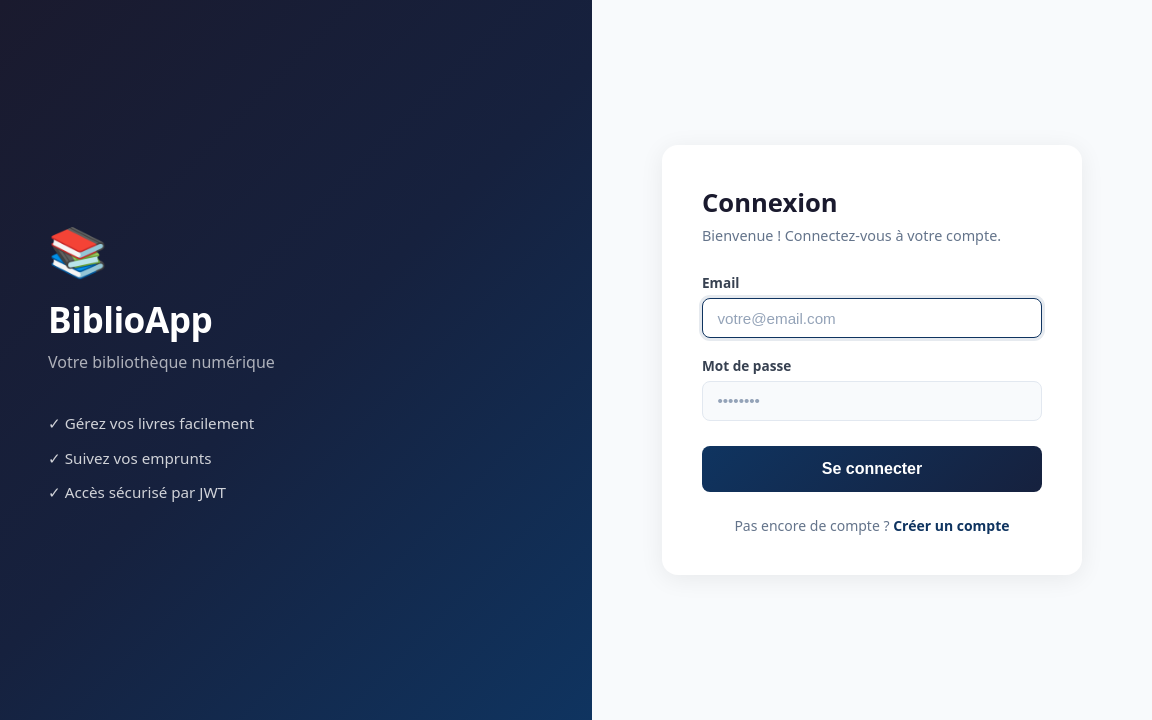
Test case: Functional — Auth flow › wrong credentials shows error message
This screenshot has width=1152, height=720.
In the field labelled "Email": (872, 318) [702, 298, 1042, 338], type "wrong@test.com"
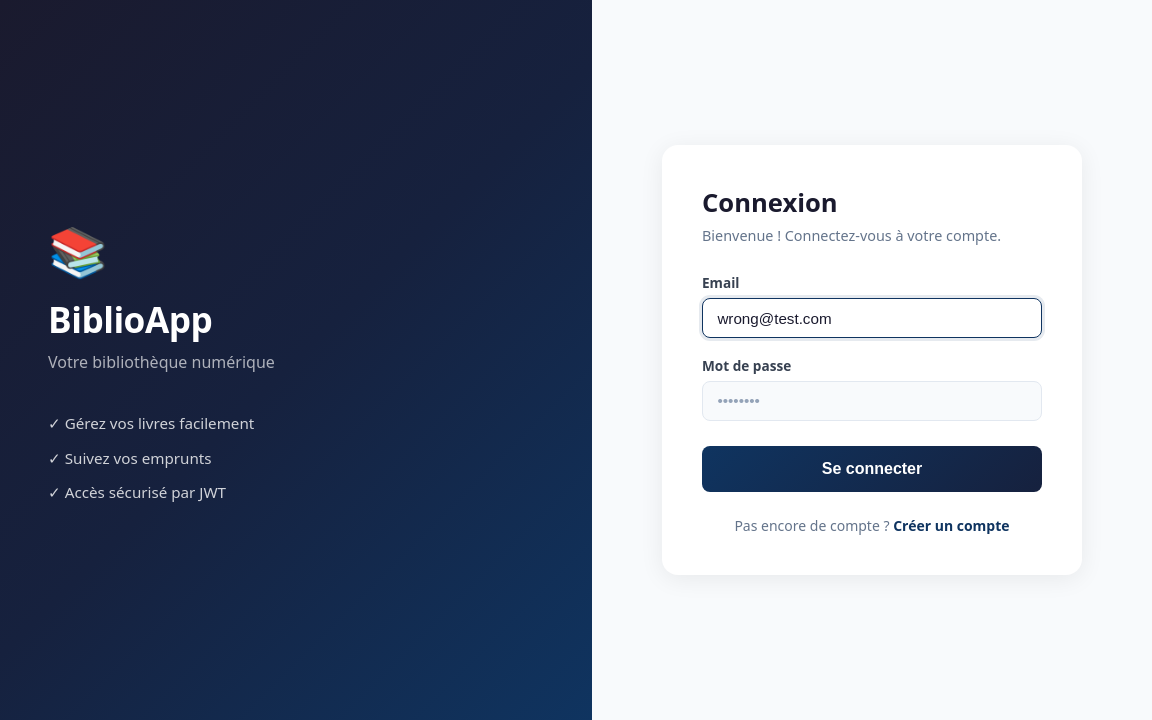
In the password field labelled "Mot de passe": (872, 401) [702, 381, 1042, 421], type "badpass"
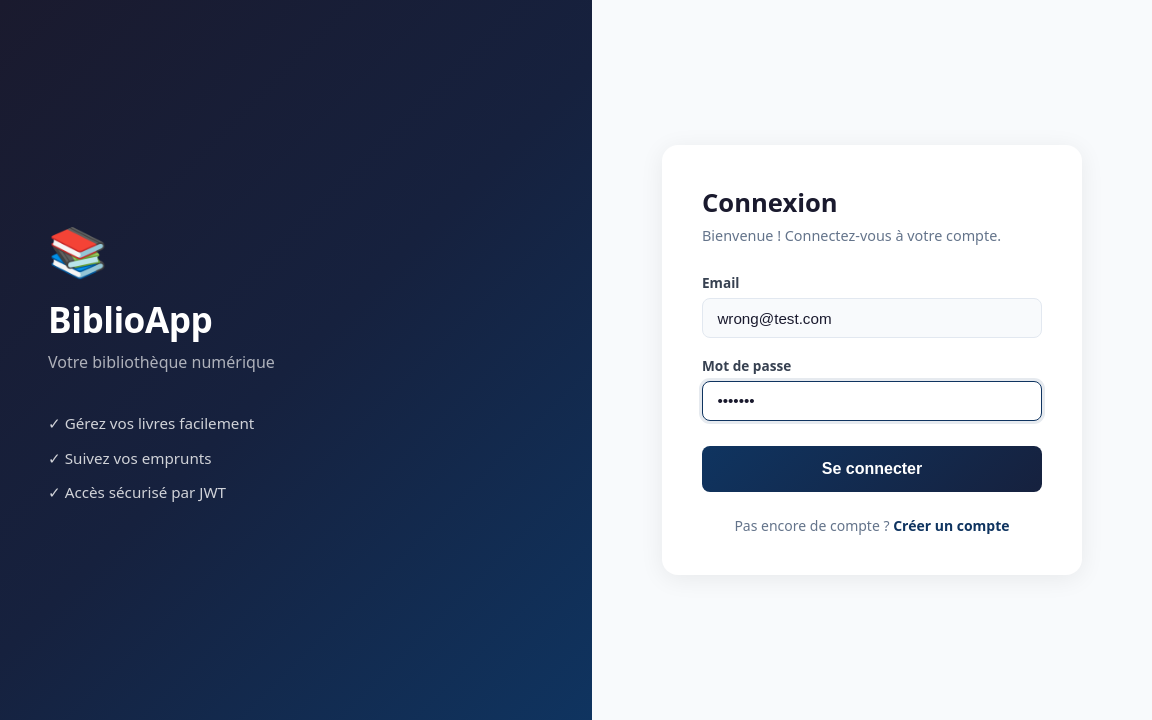
Click the button "Se connecter": (872, 470) [702, 446, 1042, 492]
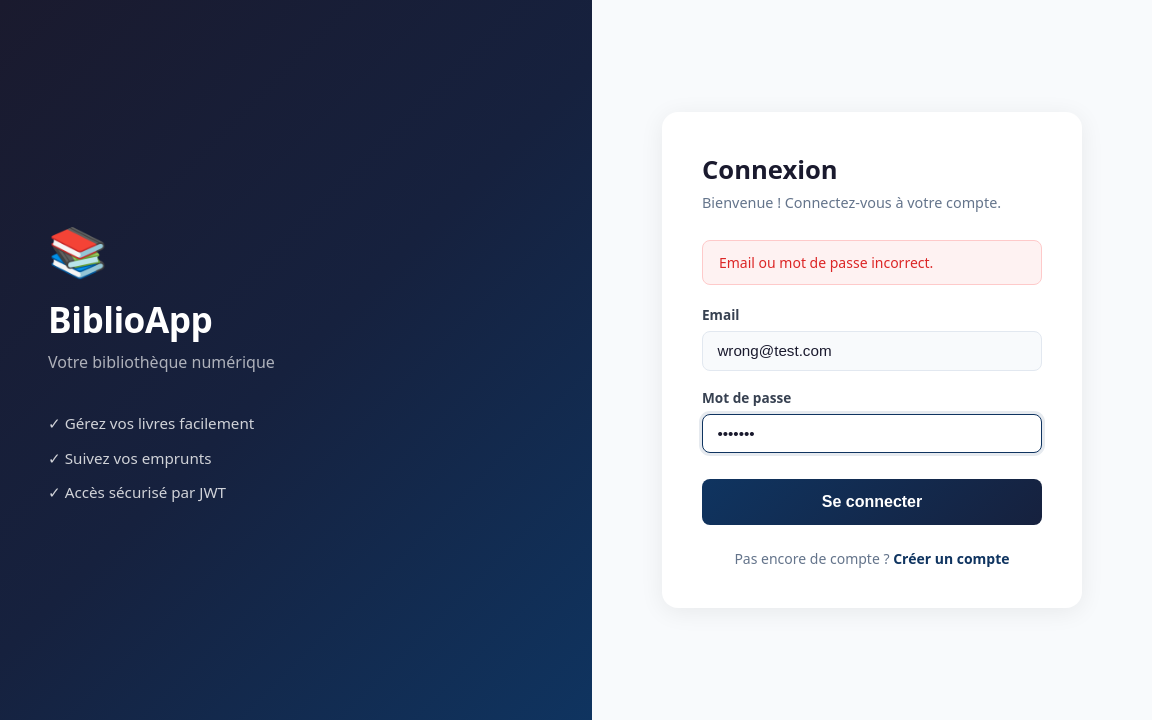
Check: the text "Email ou mot de passe incorrect." is shown, box [702, 240, 1042, 285]
